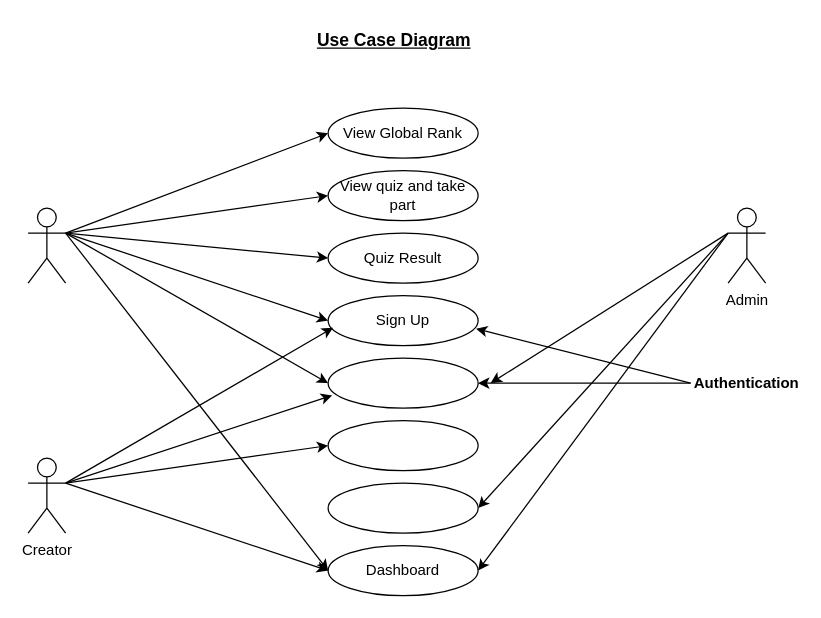
The diagram is 821 pixels wide and 618 high, and some of its shapes have lost their labels. Each missing label, with the box of its shape:
Make Quiz: (327, 419, 478, 471)
Moderation: (327, 482, 478, 533)
Sign In: (327, 357, 478, 408)
Student: (27, 207, 66, 283)
